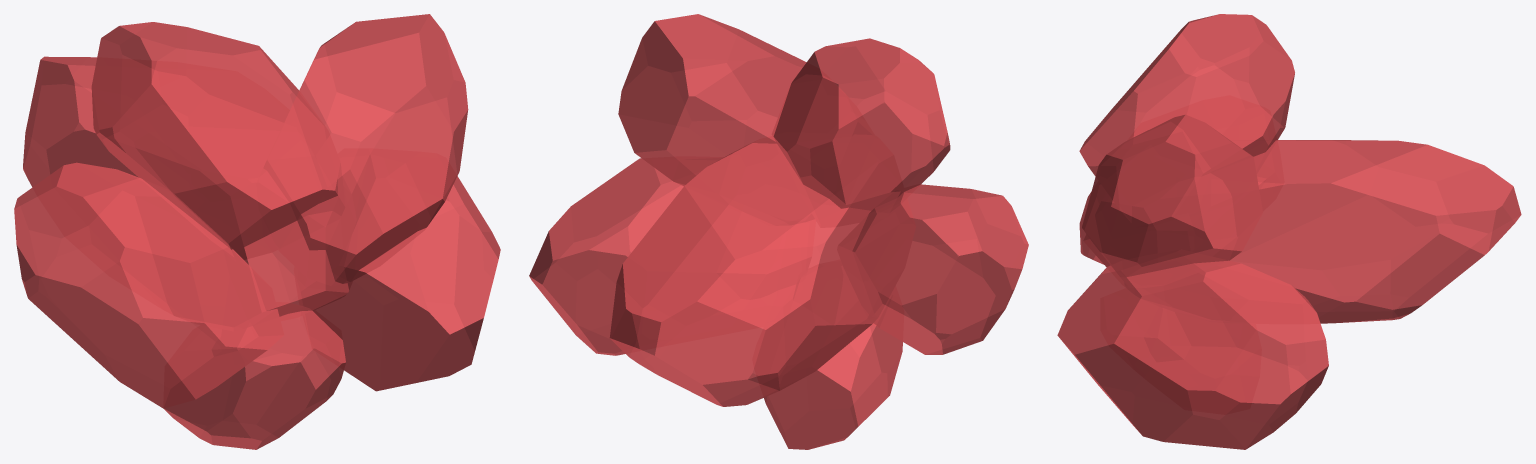
The model's file is fireCristal.fbx.
The picture shows the model from 3 angles, left to right: view 1: azimuth 30°, elevation 25°; view 2: azimuth 150°, elevation 25°; view 3: azimuth 270°, elevation 25°; orthographic projection. The views are drawn at different scales.
Visible parts, largest first — view 1: Sphere; view 2: Sphere; view 3: Sphere.
Part boxes in pixels (x1=…): Sphere: x1=14, y1=14, x2=500, y2=449; Sphere: x1=529, y1=14, x2=1028, y2=449; Sphere: x1=1057, y1=14, x2=1521, y2=449.
Bounding box in the file's own units: 428 × 363 × 432.
